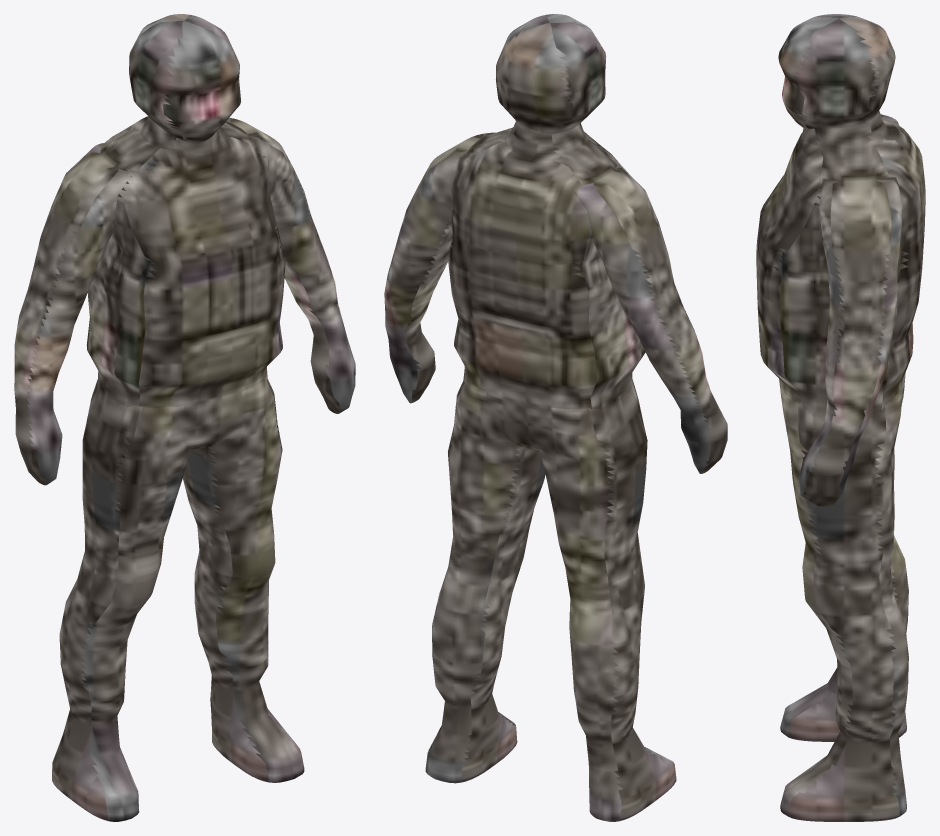
File: operator.glb
3 renders of one model, left to right at view 1: azimuth 30°, elevation 25°; view 2: azimuth 150°, elevation 25°; view 3: azimuth 270°, elevation 25°, orthographic.
Visible parts, largest first — view 1: Reference envelope - PROTOTYPE; view 2: Reference envelope - PROTOTYPE; view 3: Reference envelope - PROTOTYPE.
Boxes of the visible parts, box(x1,y1,x2,y2) form: Reference envelope - PROTOTYPE: box(14, 14, 355, 821); Reference envelope - PROTOTYPE: box(384, 14, 727, 821); Reference envelope - PROTOTYPE: box(756, 14, 925, 821).
Bounding box in the file's own units: 0.8252 × 1.8 × 0.3665.
1 material, 1 textured.
